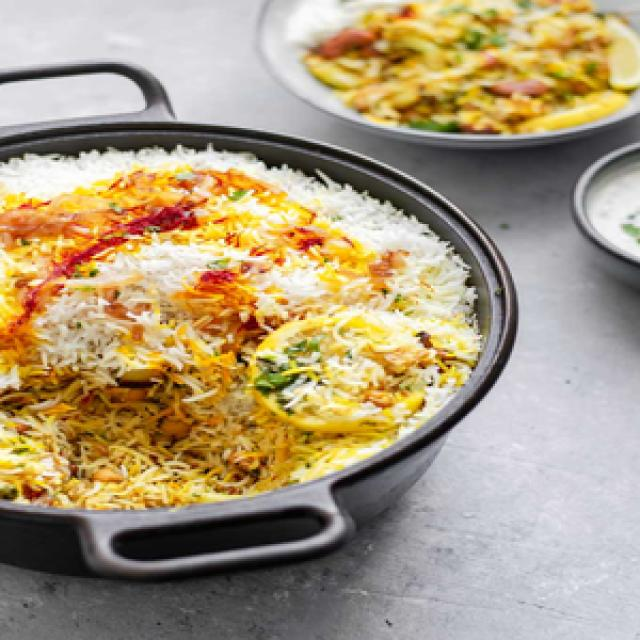chicken biriyani: (0, 95, 492, 523), (286, 0, 640, 143)
